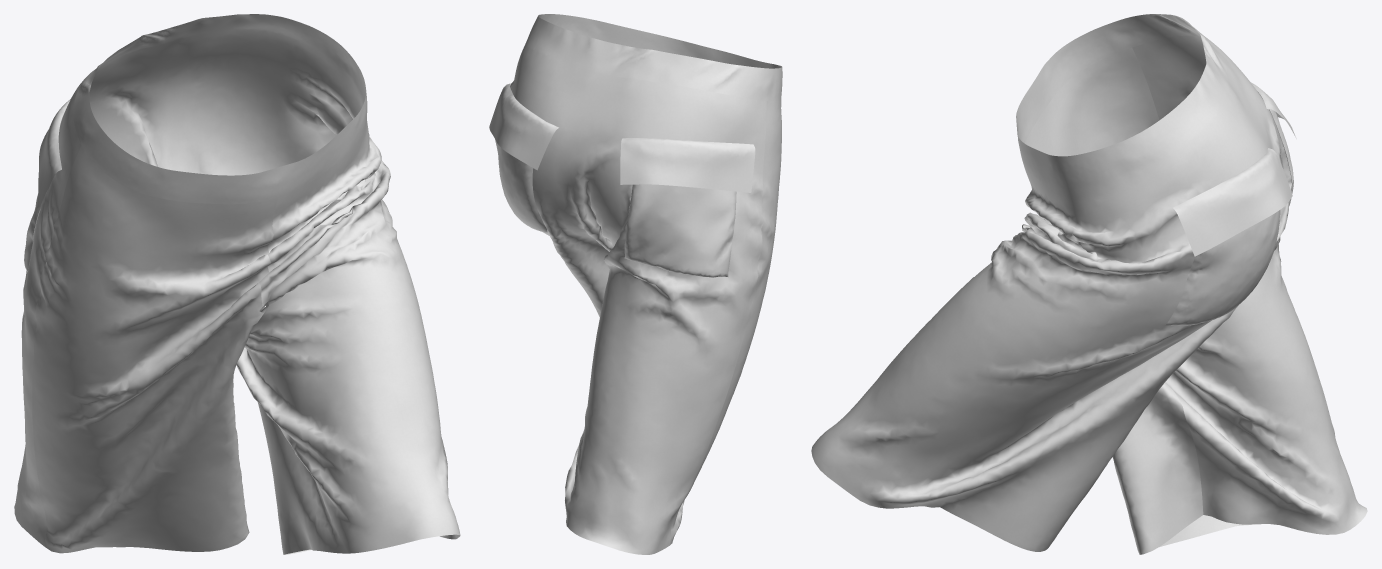
The model's file is Shorts.obj.
3 renders of one model, left to right at view 1: azimuth 30°, elevation 25°; view 2: azimuth 150°, elevation 25°; view 3: azimuth 270°, elevation 25°, orthographic. The views are drawn at different scales.
Bounding box in the file's own units: 38.14 × 61.26 × 59.98.
